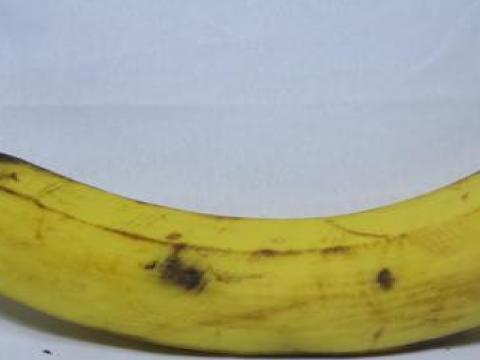ripe: (0, 141, 479, 359)
